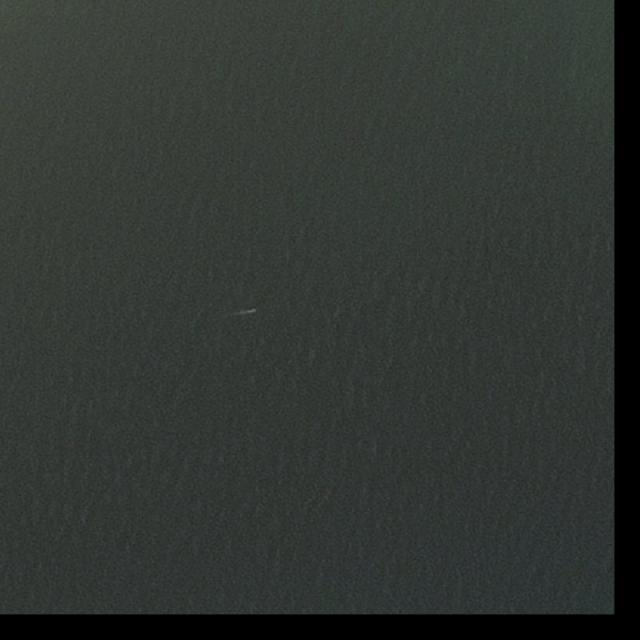ship: (250, 308, 257, 313)
